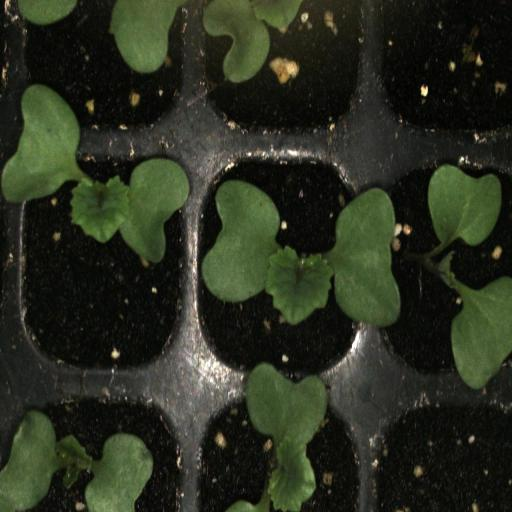noseedling: (368, 0, 512, 144)
seedling: (9, 139, 193, 378), (194, 141, 368, 389), (371, 148, 512, 388), (193, 381, 370, 512), (7, 381, 183, 507)
